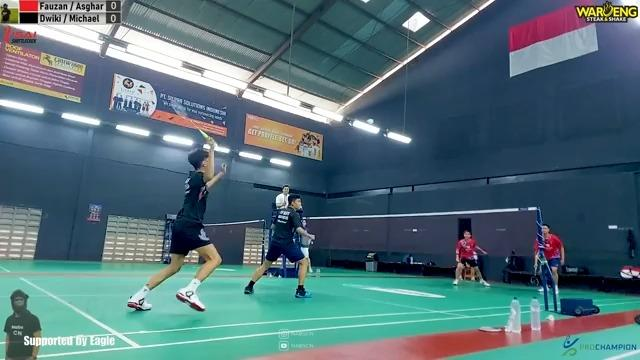Shuttlecock: (366, 117, 376, 129)
